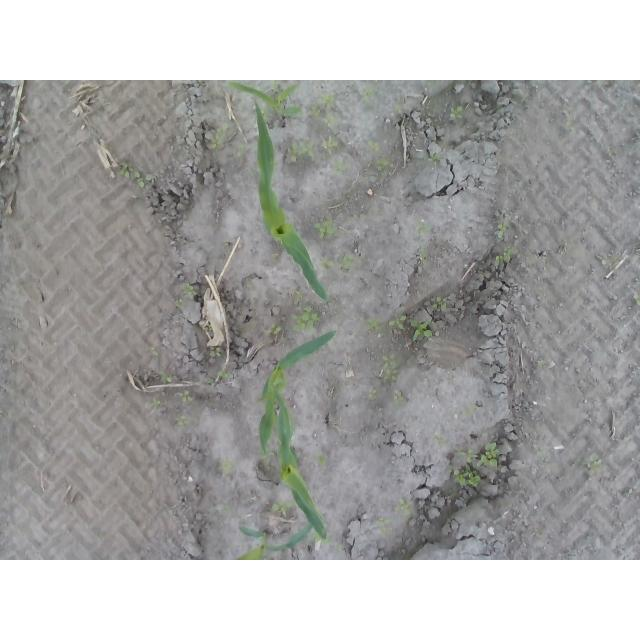Maize: (254, 99, 331, 301), (259, 331, 337, 455), (275, 414, 330, 544), (235, 521, 313, 560), (228, 80, 304, 118)
Weeds: (454, 442, 499, 490), (366, 315, 434, 342), (116, 160, 153, 188), (308, 92, 337, 126), (289, 304, 322, 332), (285, 140, 312, 165), (320, 254, 352, 270), (394, 497, 415, 518), (315, 221, 338, 240), (382, 355, 398, 382), (269, 500, 296, 514), (429, 294, 448, 313), (623, 285, 640, 306), (495, 247, 513, 266), (319, 134, 338, 152), (416, 240, 429, 265), (587, 452, 605, 468), (211, 127, 226, 146), (495, 223, 508, 242), (378, 516, 402, 526), (315, 448, 330, 464), (432, 433, 447, 448), (175, 414, 191, 428), (448, 106, 464, 120), (375, 159, 395, 170), (183, 283, 197, 298), (179, 389, 194, 403), (332, 160, 347, 174), (363, 85, 378, 99), (217, 369, 231, 383), (208, 346, 224, 358), (267, 324, 283, 336), (367, 140, 380, 153), (367, 387, 378, 402), (430, 153, 446, 163), (222, 462, 234, 475), (158, 369, 169, 383), (145, 345, 159, 355), (417, 223, 431, 233), (394, 391, 405, 403), (420, 80, 436, 88), (174, 299, 184, 311), (294, 290, 303, 303), (152, 398, 160, 410), (206, 377, 214, 387), (239, 144, 245, 156), (204, 324, 212, 332)
